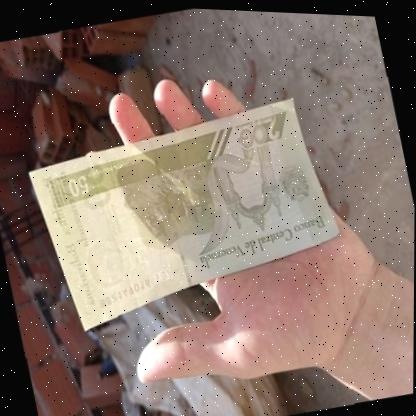fifty-back-vef: (20, 80, 353, 345)
